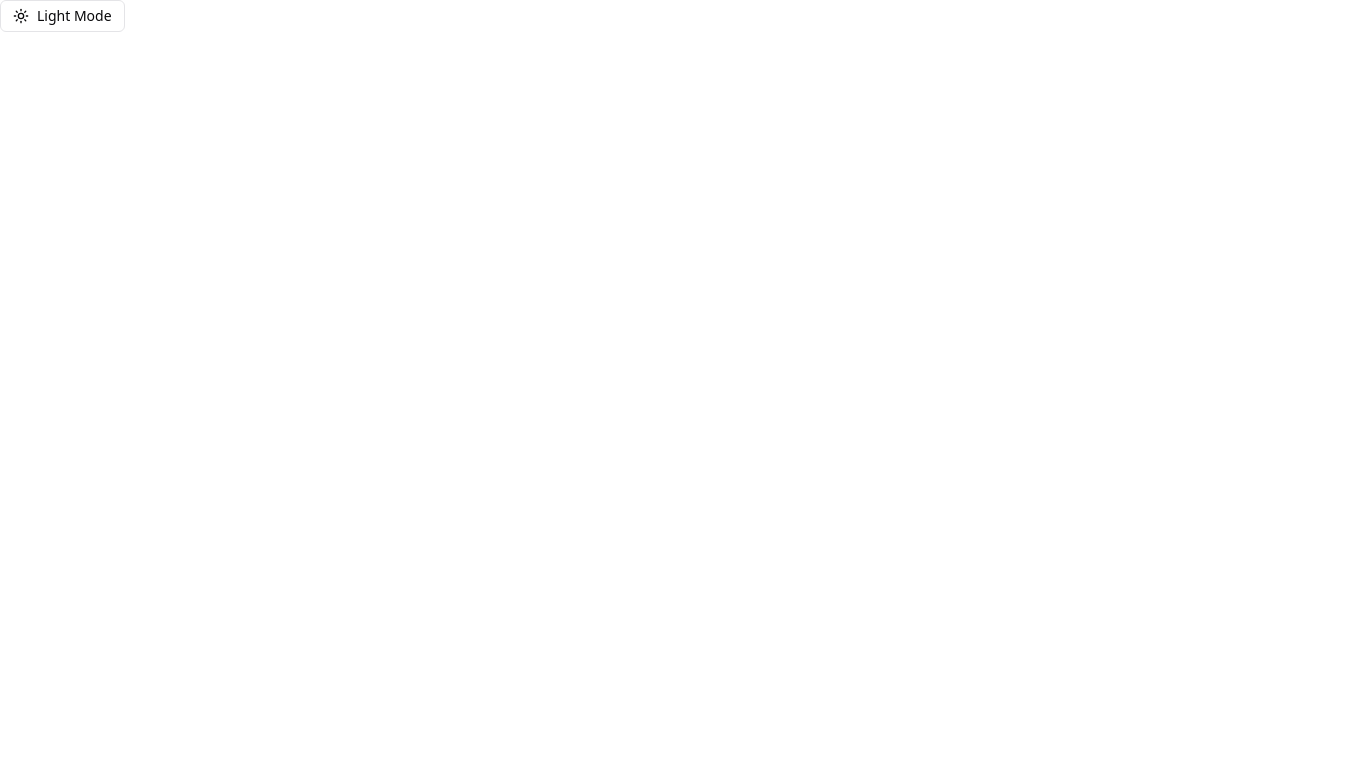
Test case: ThemeToggle › theme toggle switches between light and dark
The width and height of the screenshot is (1366, 768).
Expected: the text "Light Mode" is shown, top-left (37, 6), bottom-right (112, 26)
Note: Click to toggle to dark
Click the button with aria-label "toggle theme". click: (62, 16)
box: top-left (0, 0), bottom-right (125, 32)
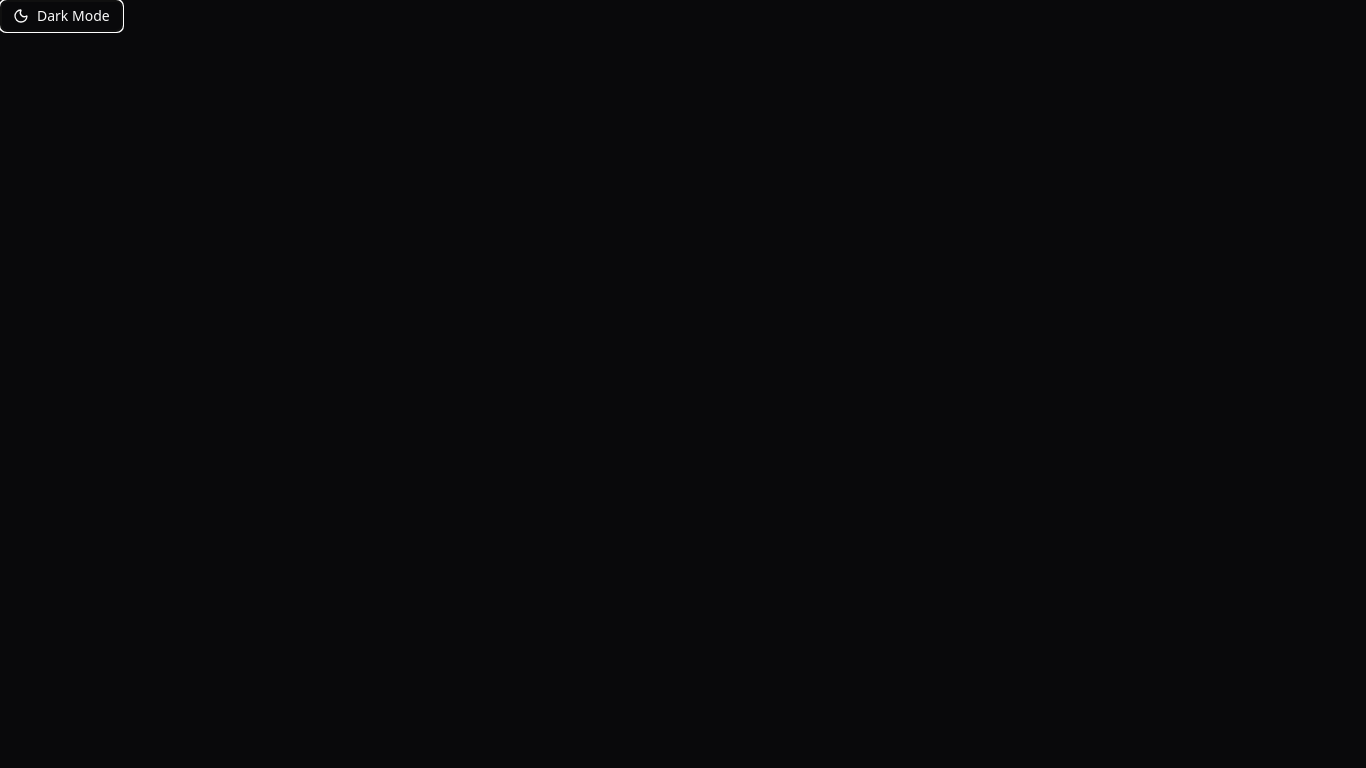
Expected: the text "Dark Mode" is shown, top-left (37, 6), bottom-right (110, 26)
Note: Click again to toggle back to light
Click the button with aria-label "toggle theme". click: (61, 16)
box: top-left (0, 0), bottom-right (123, 32)
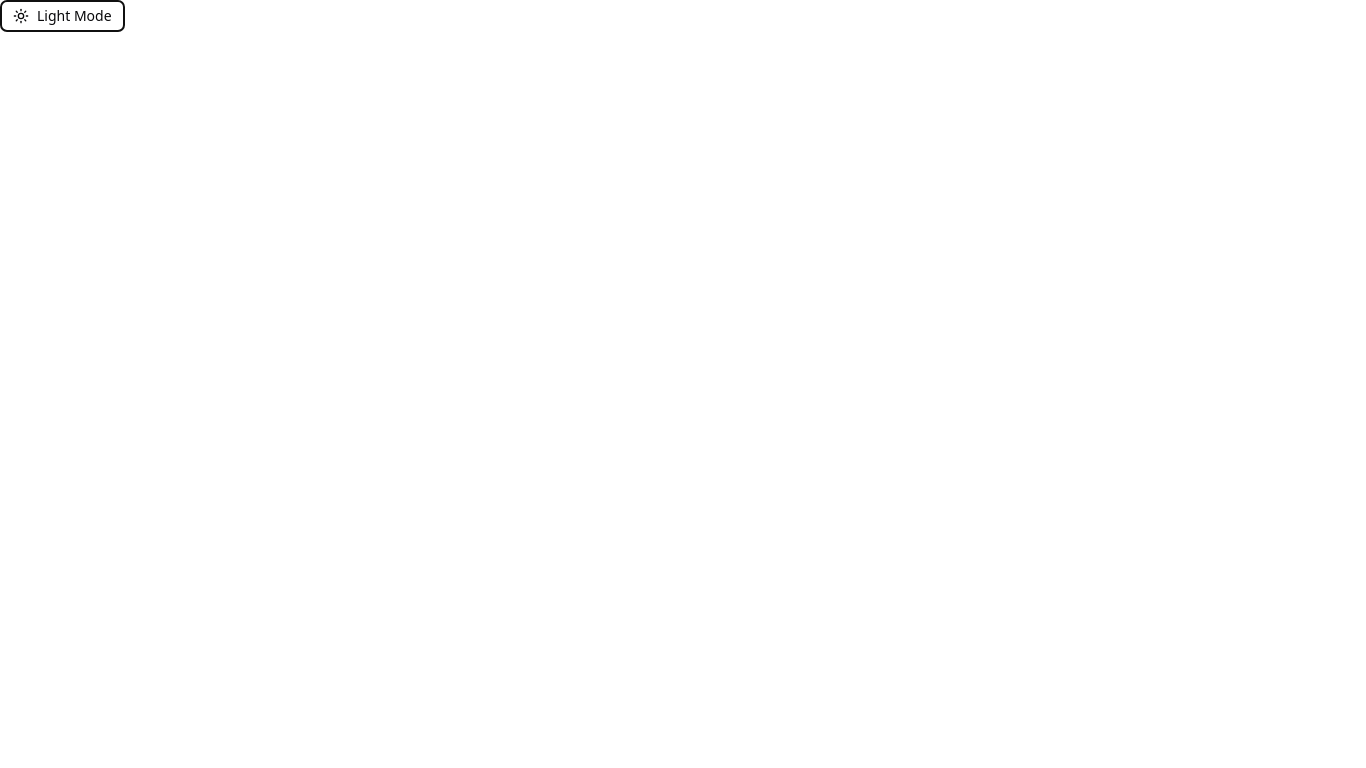
Expected: the text "Light Mode" is shown, top-left (37, 6), bottom-right (112, 26)
